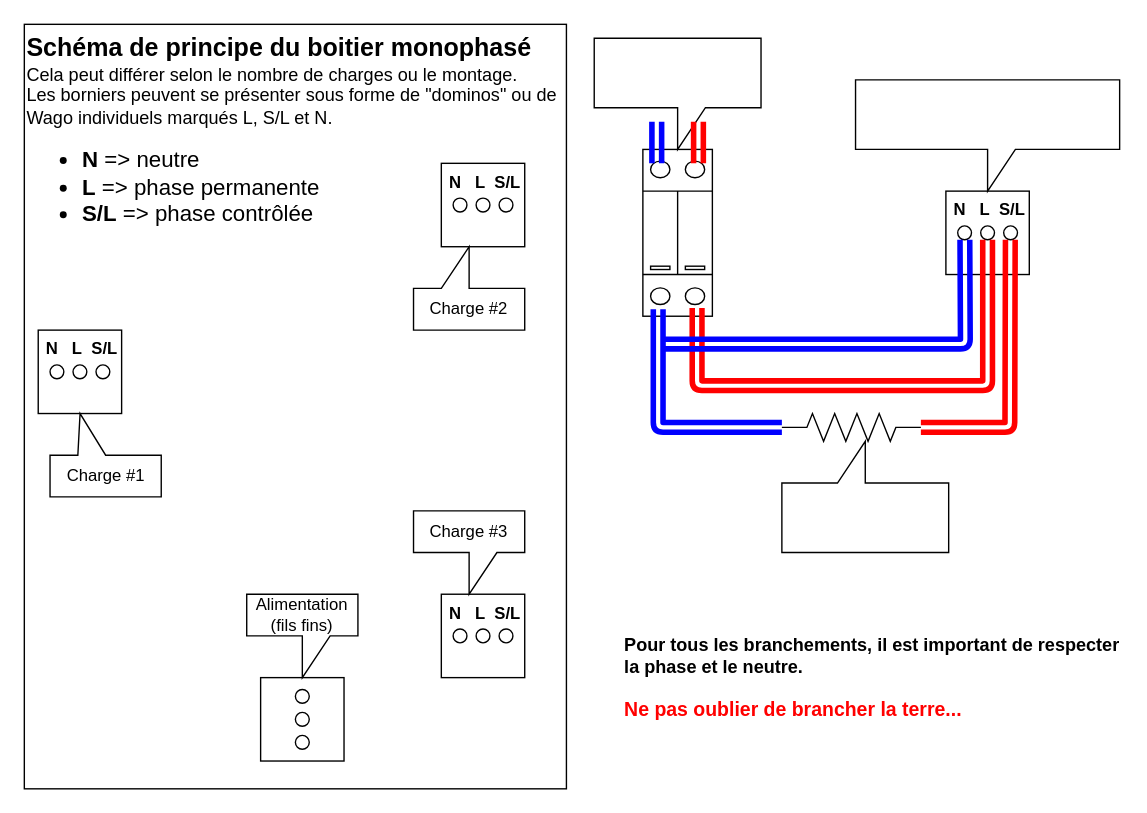
This 1147x813 diagram has some shape labels left out. The shapes that lost their labels are listed below. From the top down, each one's box as (x1, y1, x2, y2) in pixels, then its label:
(593, 37, 761, 149): Disjoncteur Charge #n
(854, 79, 1120, 191): Connecteur "domino" blanc 3 bornes ou 3 Wago individuels
(780, 440, 949, 553): Charge #n
